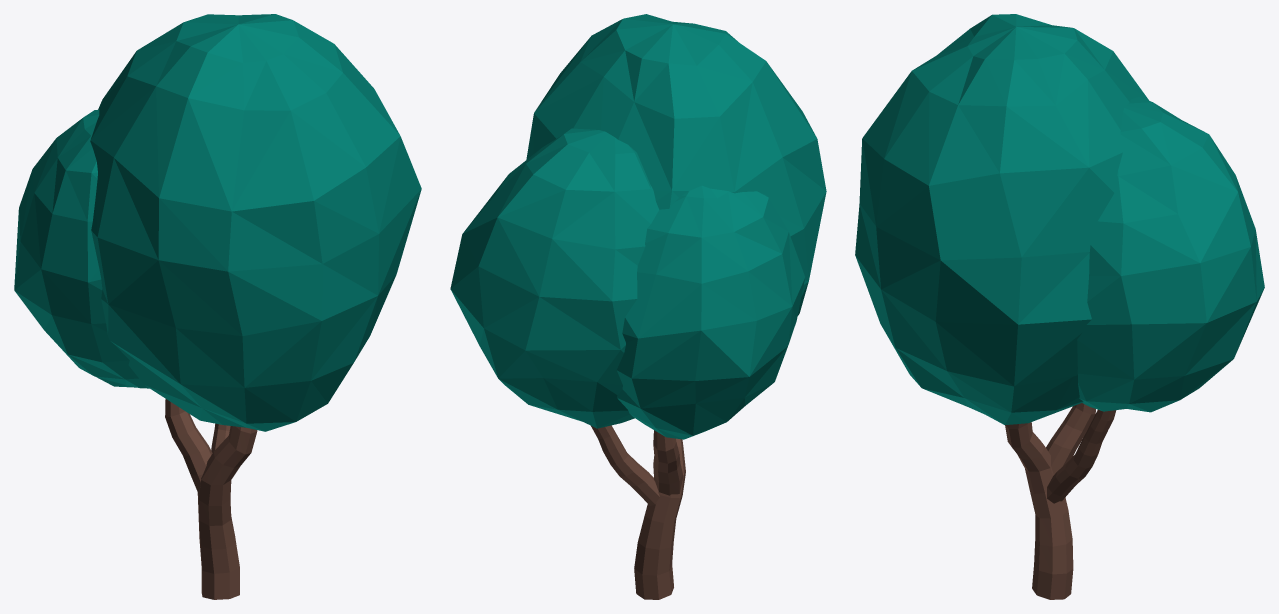
3 renders of one model, left to right at view 1: azimuth 30°, elevation 25°; view 2: azimuth 150°, elevation 25°; view 3: azimuth 270°, elevation 25°, orthographic. The views are drawn at different scales.
Visible parts, largest first — view 1: node_MeshObject1583448064-PolyPaper21; view 2: node_MeshObject1583448064-PolyPaper21; view 3: node_MeshObject1583448064-PolyPaper21.
Boxes of the visible parts, x1,y1,x2,y2 form: node_MeshObject1583448064-PolyPaper21: (14, 14, 421, 599); node_MeshObject1583448064-PolyPaper21: (450, 14, 826, 599); node_MeshObject1583448064-PolyPaper21: (855, 14, 1264, 599).
Bounding box in the file's own units: 1.77 × 3.16 × 2.07.
